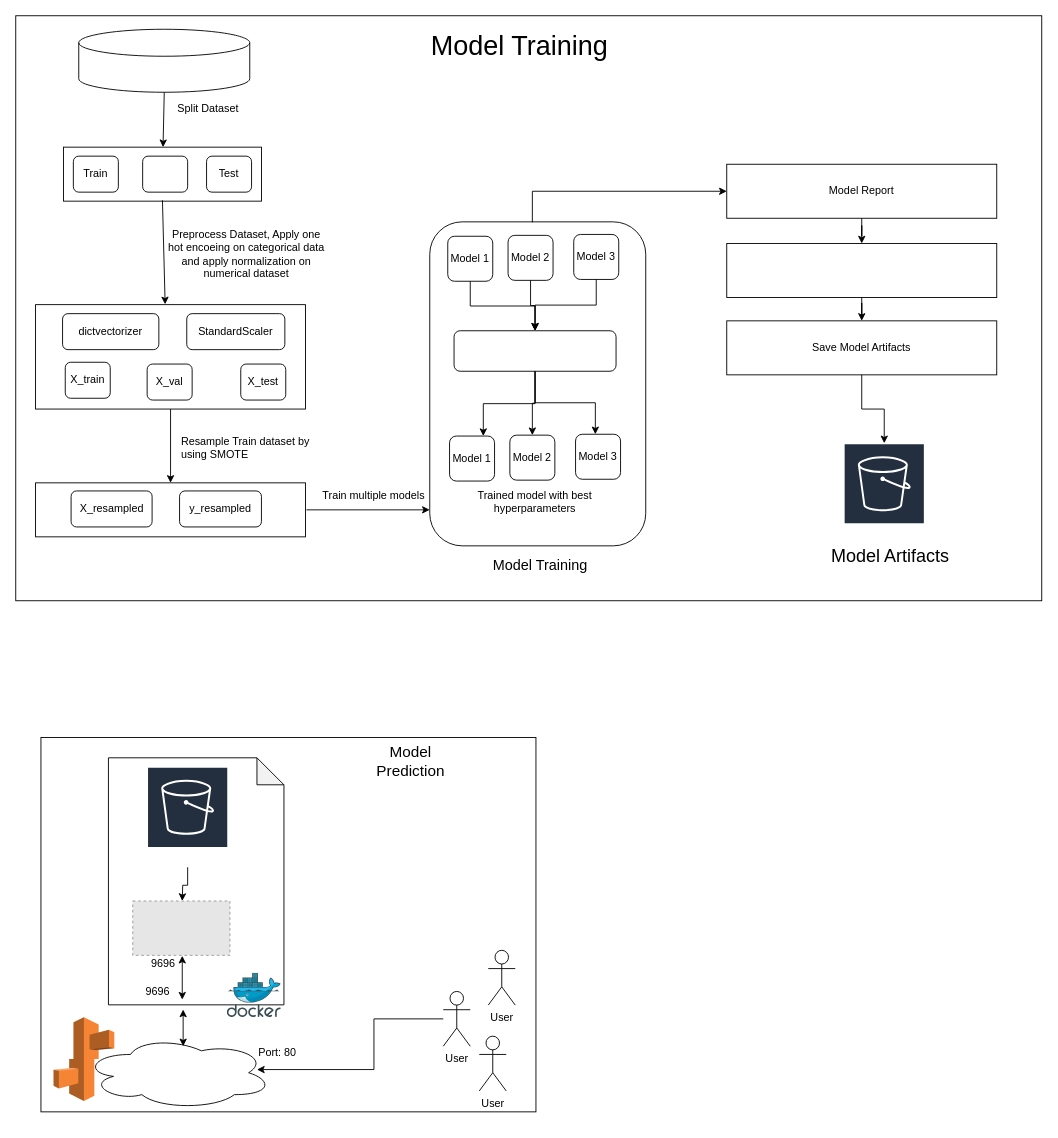
This 1058x1138 diagram has some shape labels left out. Grey dashed boxes stand in for pictures. Each missing label, with the box of its shape:
AWS Elastic BeanStalk: (82, 1035, 272, 1109)
CSV Dataset: (78, 28, 250, 92)
Get Best Model: (726, 243, 997, 297)
GridSearchCV: (453, 330, 616, 371)
Model Artifact: (146, 766, 228, 867)
Val: (142, 155, 188, 192)
